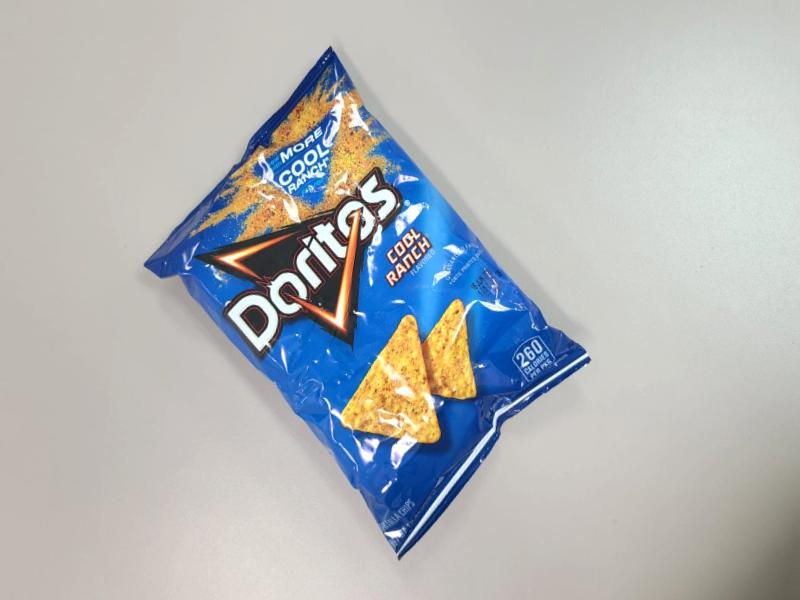doritos: (203, 90, 606, 560)
